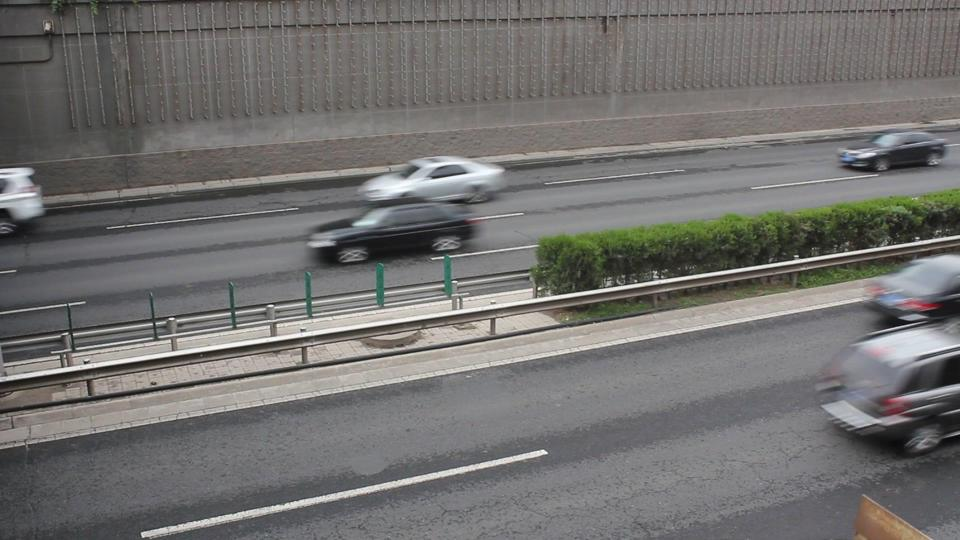car: (812, 324, 960, 458), (307, 209, 480, 267), (355, 158, 505, 208), (870, 253, 960, 323), (834, 130, 952, 172), (0, 163, 49, 248)
